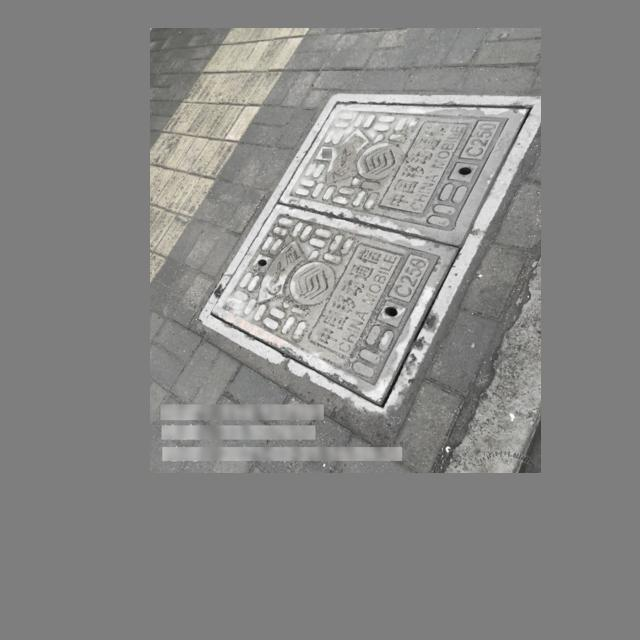good: (200, 92, 541, 415)
